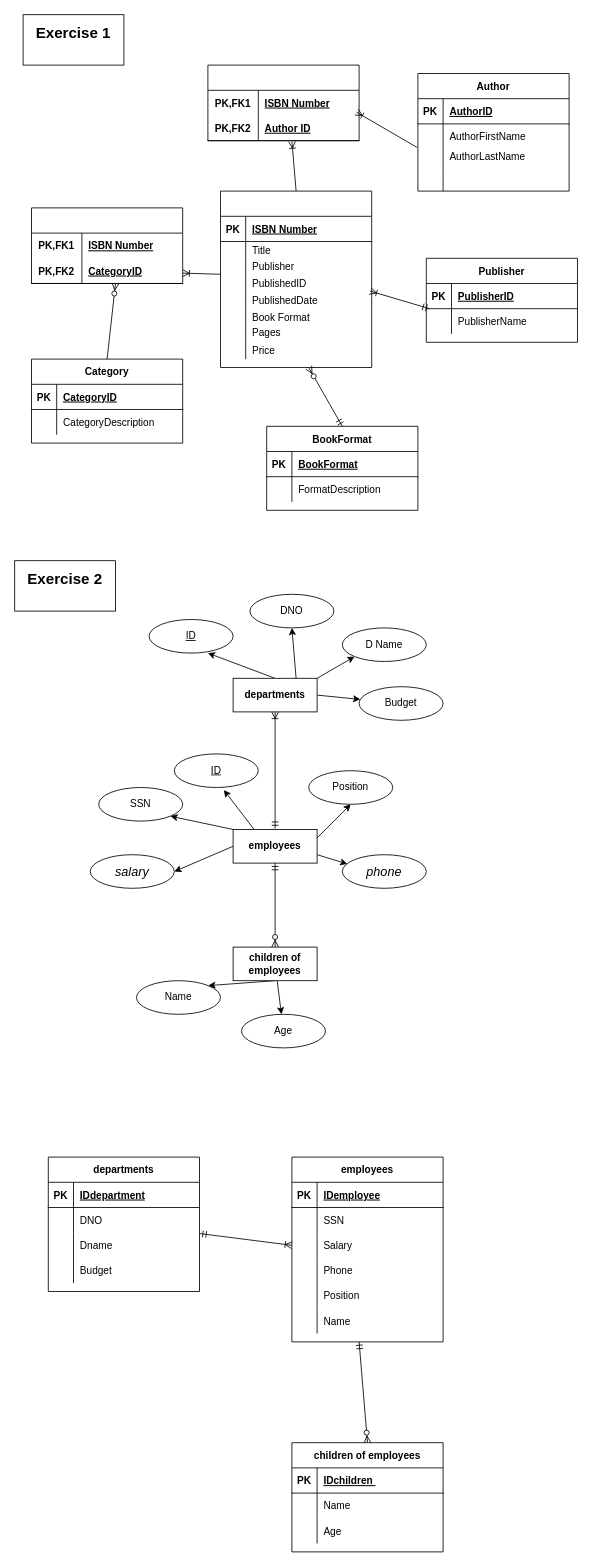
The diagram is 592 pixels wide and 1567 high, and some of its shapes have lost their labels. Here are the shapes that lost their labels. From the top down, the box of each, then its label:
(207, 64, 359, 141): Book Author
(31, 207, 183, 284): Book Category
(220, 190, 372, 368): Book Title
